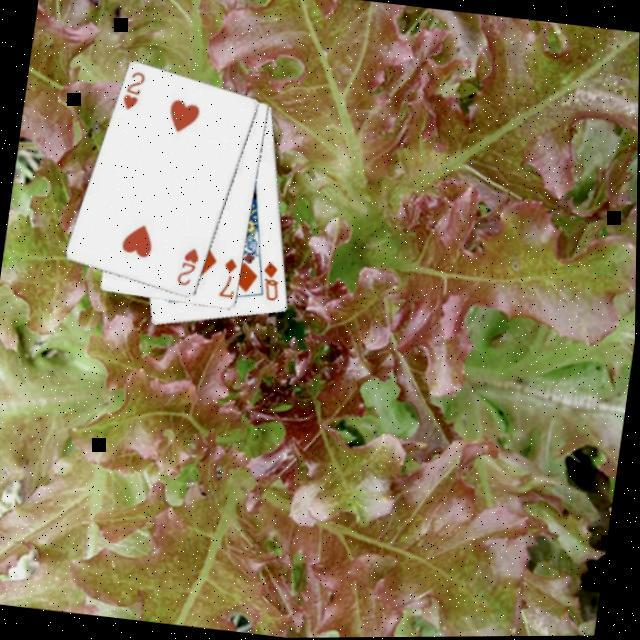2H: (170, 245, 202, 292), (116, 69, 146, 116)
7D: (213, 255, 239, 302)
QD: (255, 260, 284, 306)
